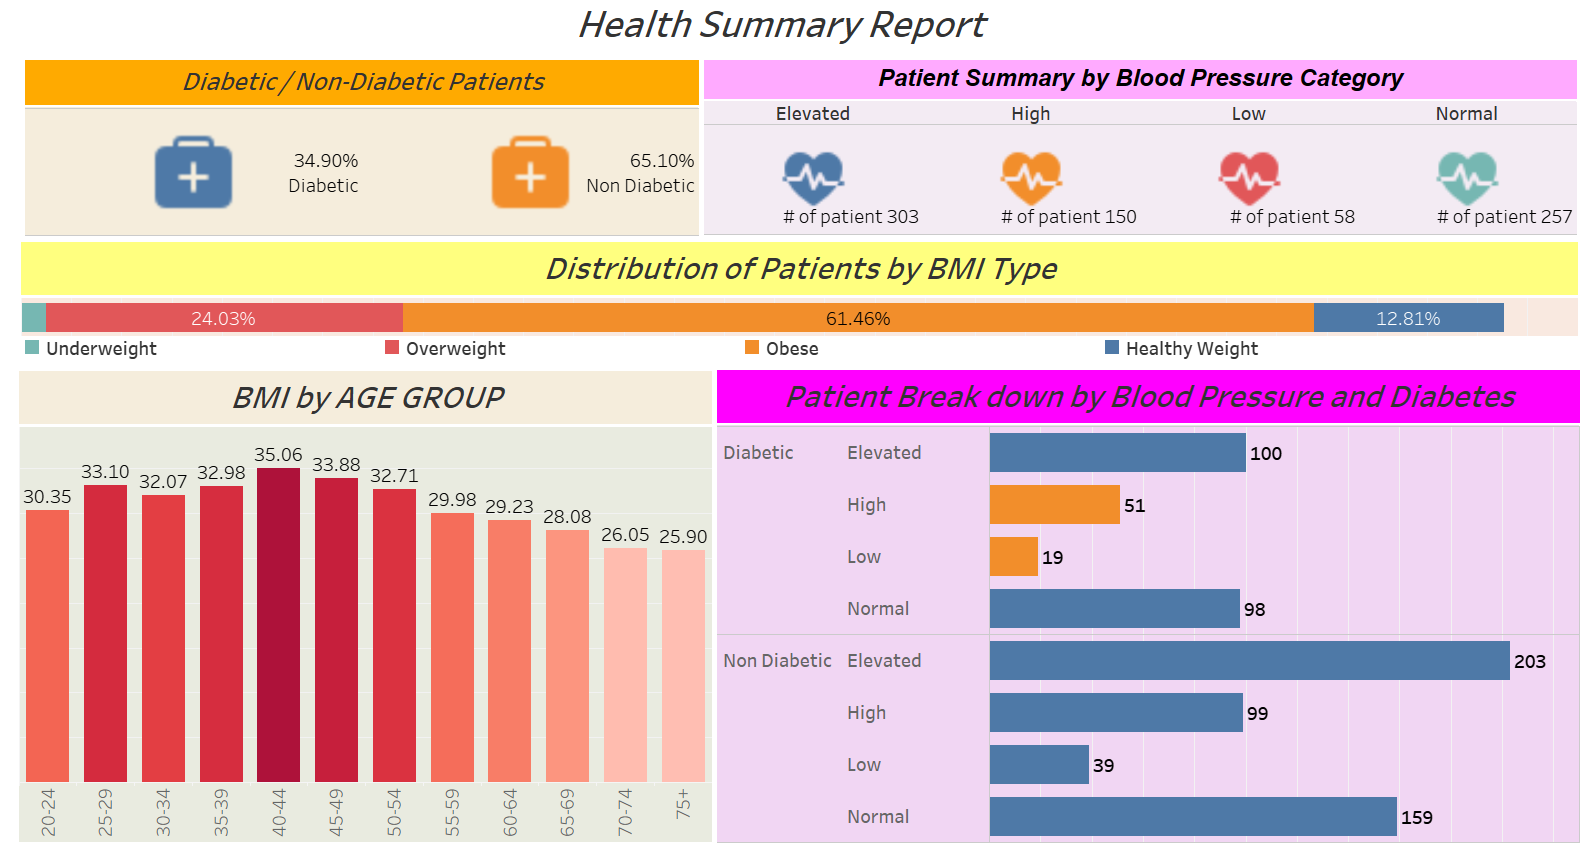

The dashboard page shown, as its layout file describes it:
{"tool":"tableau","page":{"name":"Dashboard 2","canvas":[1000,1000],"units":"permille","ordinal":1},"visuals":[{"type":"title","box":[0,0,1000,67]},{"type":"worksheet","title":"Sheet 1","mark":"Shape","cols":["Calculation_2286702772626034690"],"box":[27.4,76.2,420.2,203.2]},{"type":"worksheet","title":"Sheet 2","mark":"Shape","cols":["Blood Pressure Systolic"],"box":[450.8,76.2,544.3,202.1]},{"type":"worksheet","title":"Sheet 4","mark":"Automatic","cols":["ID"],"box":[24.9,286.4,970.7,108.5]},{"type":"legend","title":"Sheet 4","param":"[federated.0ezgtjj1yq76aq1f06ptw1690ouf].[none:Calculation_2286702772624646145:n","box":[24.3,393.8,955.1,33.5]},{"type":"worksheet","title":"Sheet 5","mark":"Automatic","rows":["Calculation_2286702772626034690","Blood Pressure Systolic"],"cols":["ID"],"box":[458.9,434.2,538,546.2]},{"type":"worksheet","title":"Sheet 3","mark":"Automatic","rows":["BMI"],"cols":["Age (bin)"],"box":[23.7,435.3,432,543.9]}]}

Visuals, with their boxes on the dashboard's canvas, which has no fixed pixel size, in thousandths of its width and height (x1, y1, x2, y2). These are canvas units, not pixel positions in the 1582x850 screenshot, which may show the page scaled, cropped or inside an application window:
title: {"x1": 0, "y1": 0, "x2": 1000, "y2": 67}
"Sheet 1" worksheet (Shape marks): {"x1": 27, "y1": 76, "x2": 448, "y2": 279}
"Sheet 2" worksheet (Shape marks): {"x1": 451, "y1": 76, "x2": 995, "y2": 278}
"Sheet 4" worksheet: {"x1": 25, "y1": 286, "x2": 996, "y2": 395}
"Sheet 4" legend: {"x1": 24, "y1": 394, "x2": 979, "y2": 427}
"Sheet 5" worksheet: {"x1": 459, "y1": 434, "x2": 997, "y2": 980}
"Sheet 3" worksheet: {"x1": 24, "y1": 435, "x2": 456, "y2": 979}
